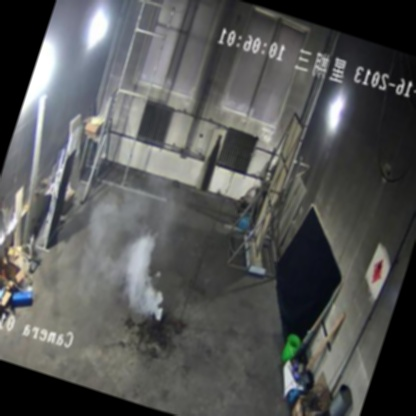smoke: (99, 206, 208, 331)
